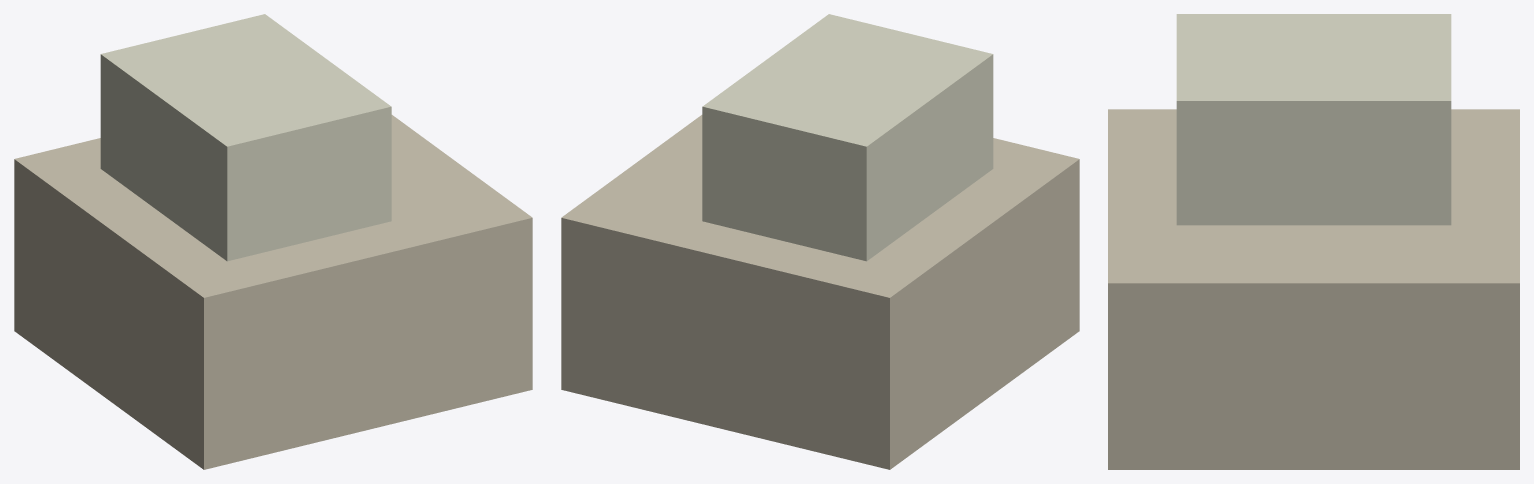
The model's file is sacos_grano_especias_decorativos_01.glb.
The picture shows the model from 3 angles, left to right: view 1: azimuth 30°, elevation 25°; view 2: azimuth 150°, elevation 25°; view 3: azimuth 270°, elevation 25°; orthographic projection. The views are drawn at different scales.
Visible parts, largest first — view 1: sacos_grano_especias_decorativos; view 2: sacos_grano_especias_decorativos; view 3: sacos_grano_especias_decorativos.
Boxes of the visible parts, x1,y1,x2,y2 form: sacos_grano_especias_decorativos: (14, 14, 532, 469); sacos_grano_especias_decorativos: (561, 14, 1079, 469); sacos_grano_especias_decorativos: (1108, 14, 1519, 469).
Bounding box in the file's own units: 0.6 × 0.5 × 0.6.
